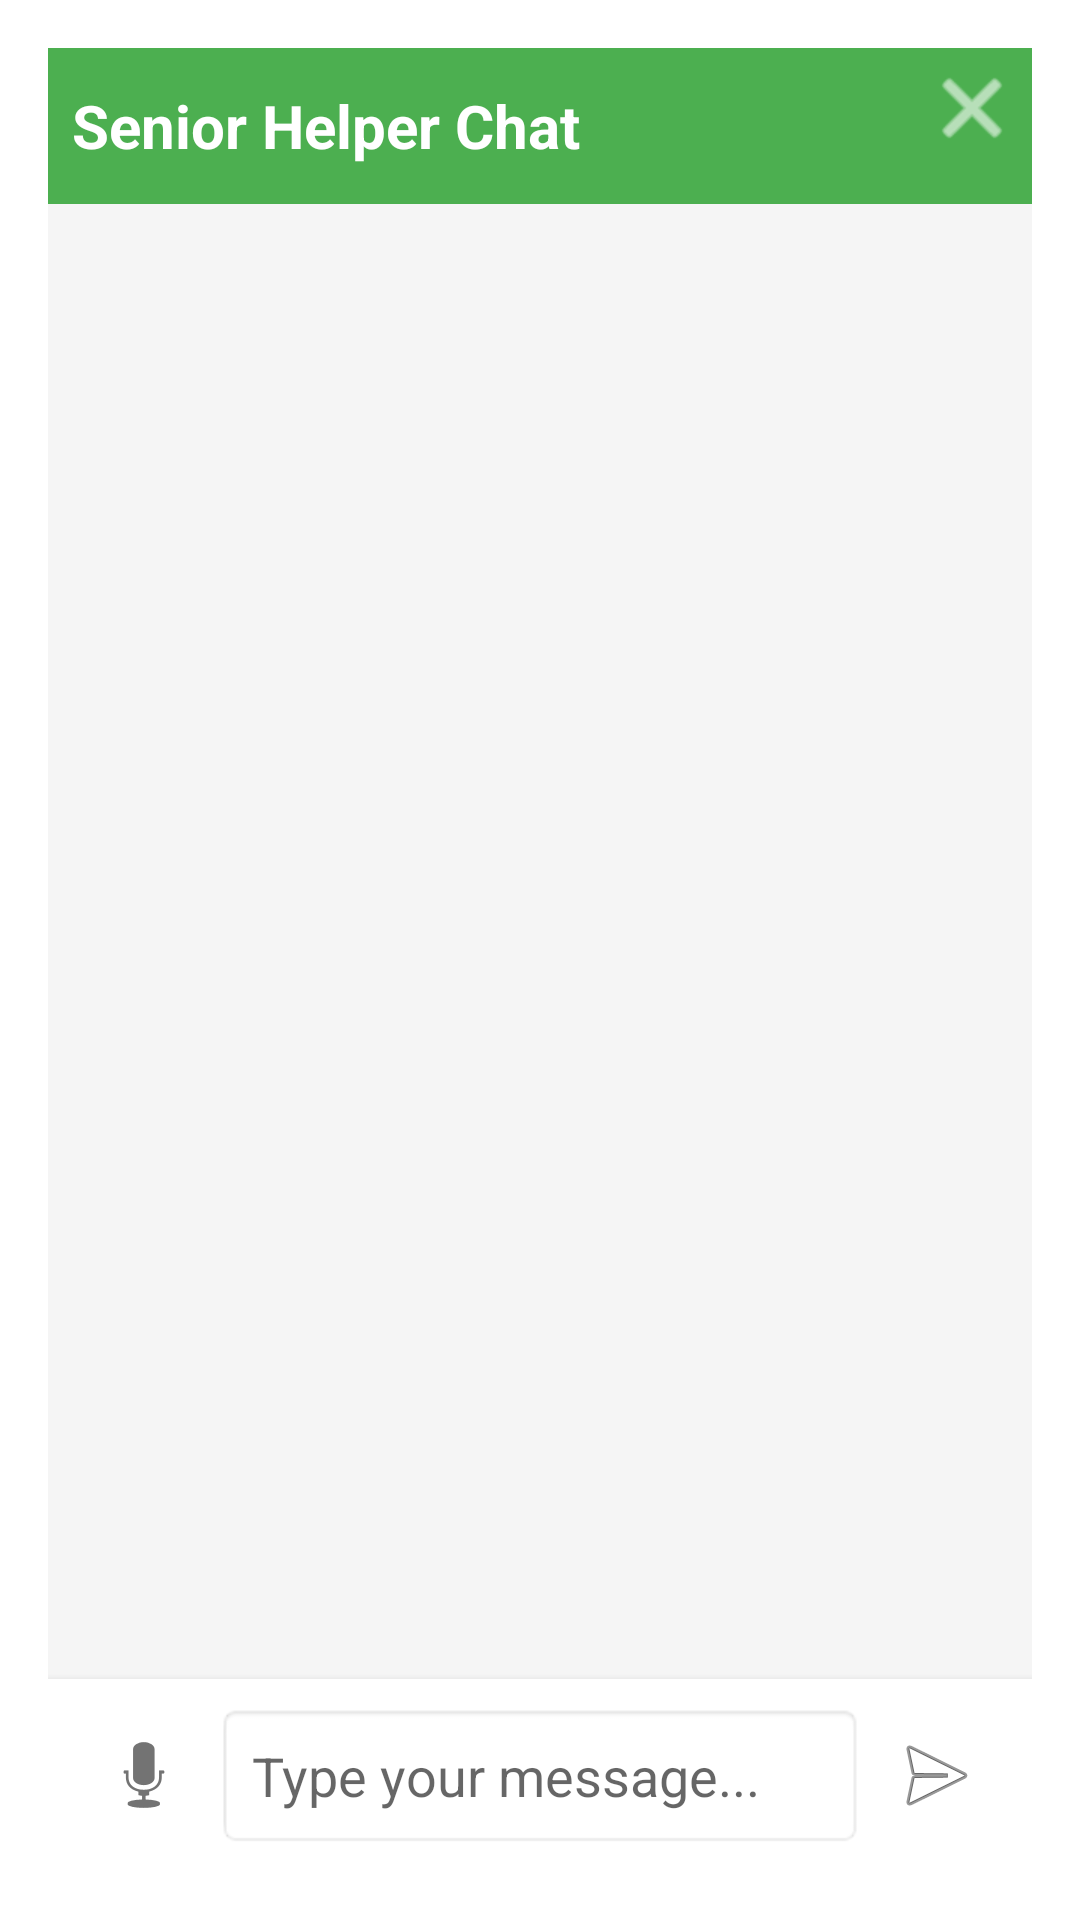

Icon bounding boxes for this 1080px x 1920px phone screenshot, format box=[x1, y1, x2, y2]:
Close chat: box=[942, 78, 1002, 138]
Send message: box=[906, 1745, 968, 1806]
Voice input: box=[123, 1742, 165, 1808]
